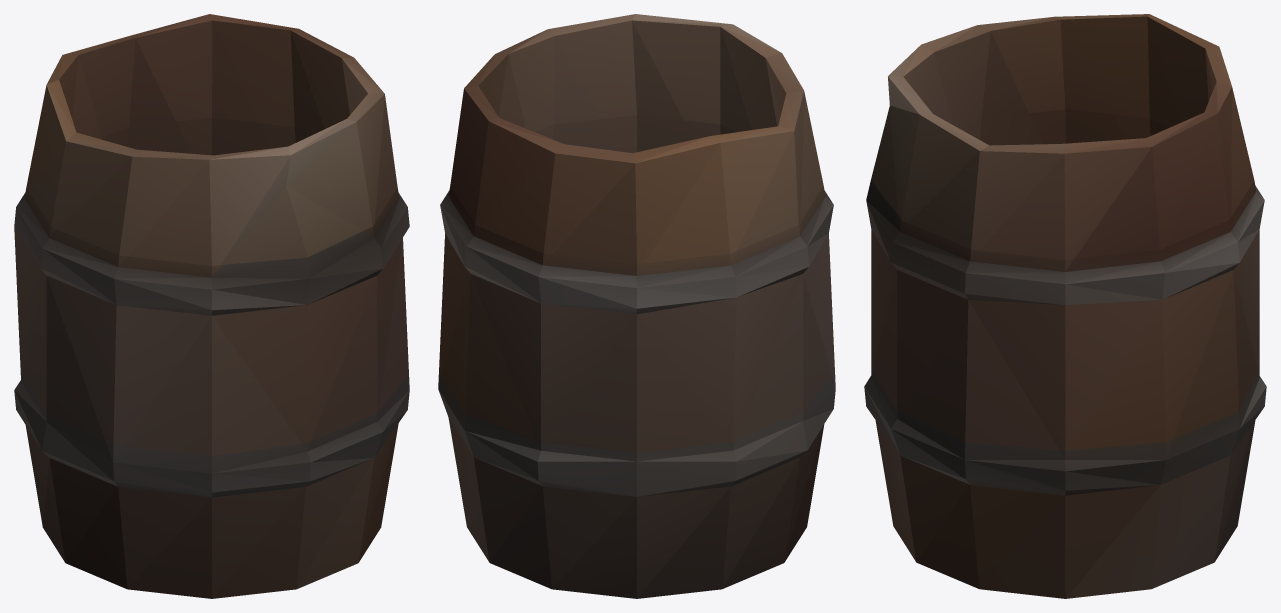
Rendered from Prop_BarrelB.fbx.
3 renders of one model, left to right at view 1: azimuth 30°, elevation 25°; view 2: azimuth 150°, elevation 25°; view 3: azimuth 270°, elevation 25°, orthographic.
Parts seen in each view (by area): view 1: Prop_BarrelB; view 2: Prop_BarrelB; view 3: Prop_BarrelB.
Part boxes in pixels (x1,y1,x2,y2): Prop_BarrelB: (14,14,409,598); Prop_BarrelB: (438,14,835,598); Prop_BarrelB: (864,14,1266,598).
Size of the model in its own units: 102 by 127 by 102.
